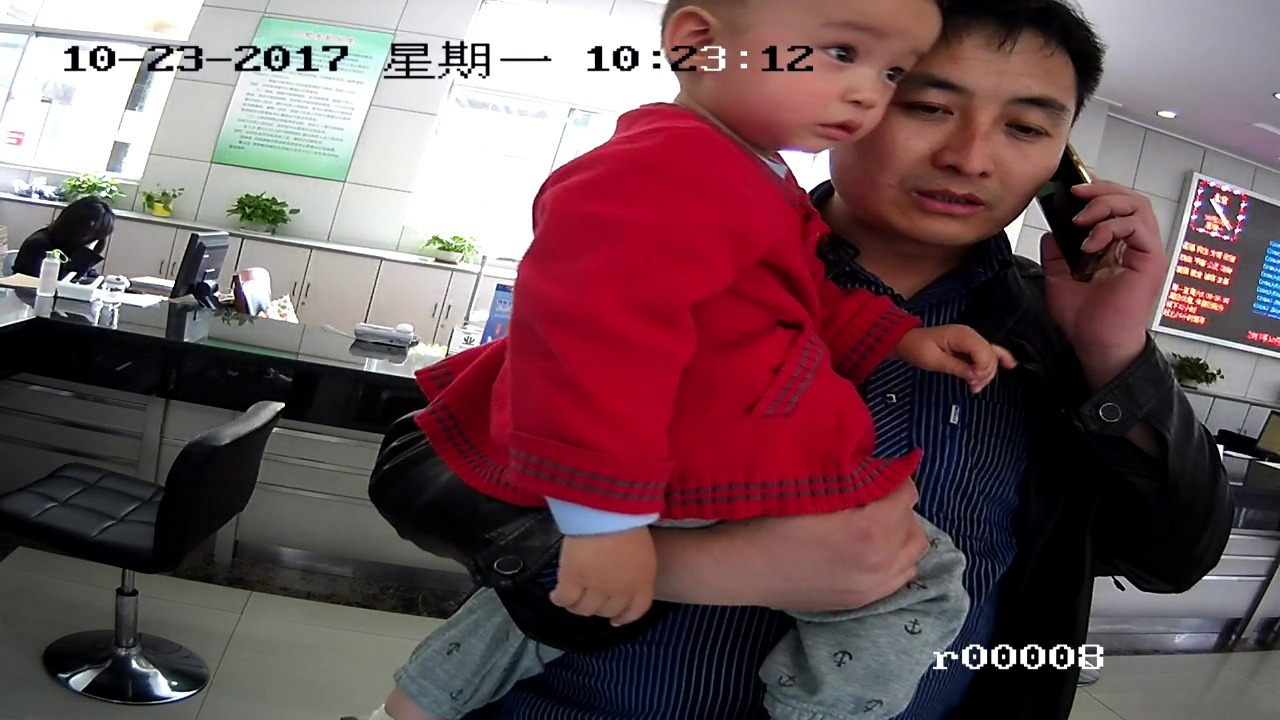billboard: (235, 20, 335, 179)
chair: (29, 413, 291, 695)
monitor: (177, 232, 232, 324)
person: (845, 7, 1147, 396), (652, 2, 916, 178), (34, 200, 111, 279)
pot: (233, 189, 290, 232), (62, 173, 114, 204), (431, 235, 476, 265), (140, 189, 177, 222)
